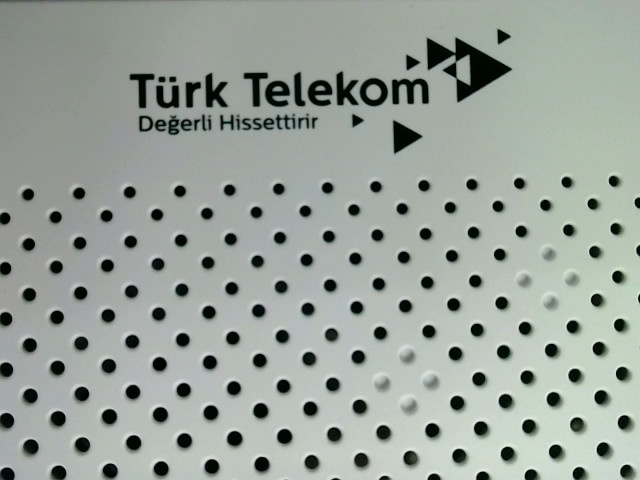AQ_TURKTelekom: (126, 27, 527, 157)
